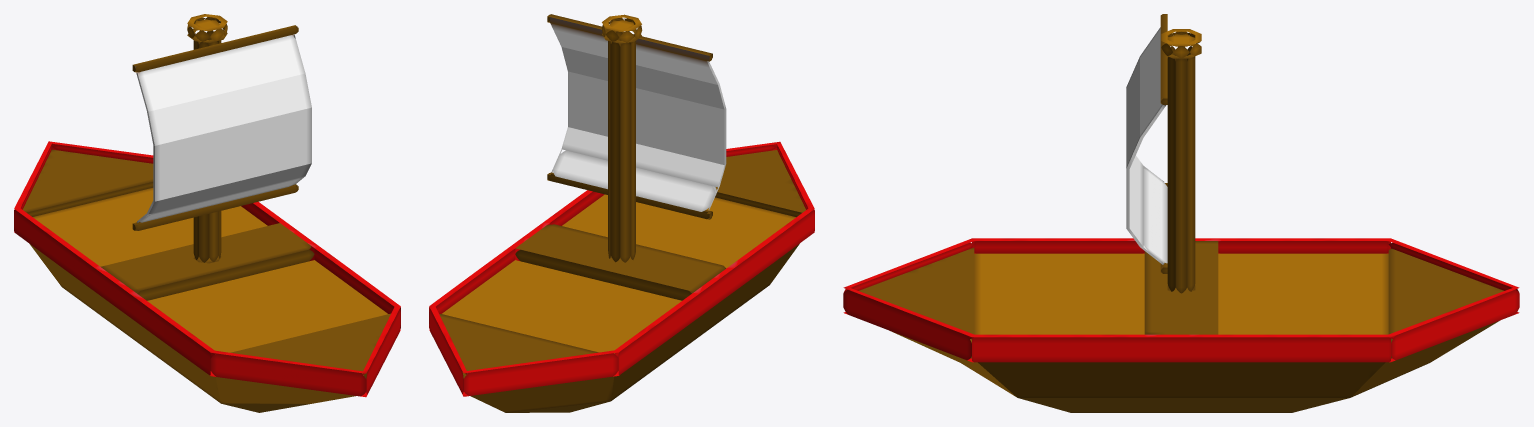
The model's file is Barco.obj.
3 views of the same model, side by side, from view 1: azimuth 30°, elevation 25°; view 2: azimuth 150°, elevation 25°; view 3: azimuth 270°, elevation 25° (orthographic). The views are drawn at different scales.
Visible parts, largest first — view 1: casco, plane, cylinder; view 2: casco, plane, cylinder; view 3: casco, cylinder, plane.
Boxes of the visible parts, x1,y1,x2,y2 form: casco: (14, 141, 400, 412); plane: (132, 25, 311, 230); cylinder: (187, 14, 227, 263); casco: (429, 141, 814, 412); plane: (547, 14, 726, 219); cylinder: (601, 14, 642, 262); casco: (843, 238, 1519, 412); cylinder: (1161, 29, 1201, 293); plane: (1126, 14, 1167, 273).
Bounding box in the file's own units: 1.06 × 1.88 × 3.06.
1 material, 1 textured.
